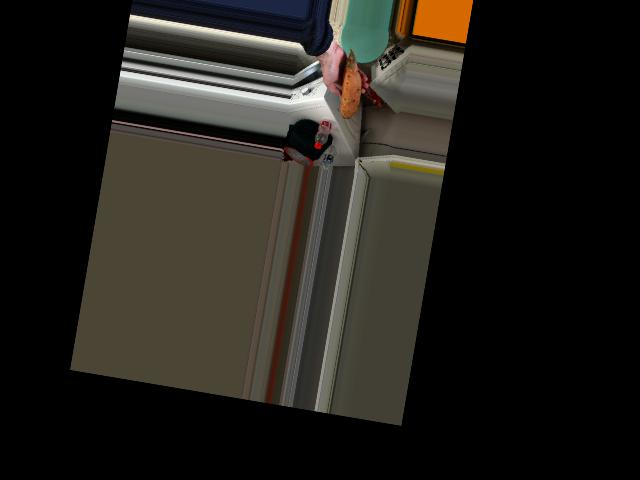sweet_potato: (335, 51, 363, 114)
